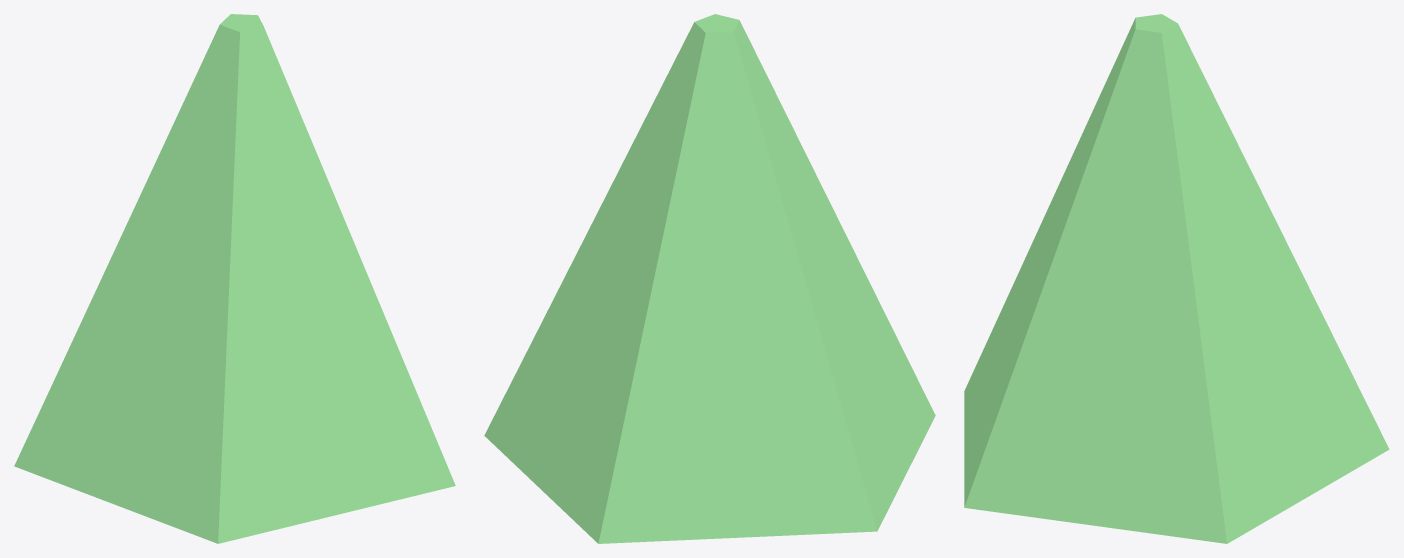
The model's file is model_GrassTest.glb.
3 views of the same model, side by side, from view 1: azimuth 30°, elevation 25°; view 2: azimuth 150°, elevation 25°; view 3: azimuth 270°, elevation 25° (orthographic). The views are drawn at different scales.
Parts seen in each view (by area): view 1: GrassTest; view 2: GrassTest; view 3: GrassTest.
Boxes of the visible parts, bbox=[...] form: GrassTest: bbox=[14, 14, 455, 543]; GrassTest: bbox=[484, 14, 935, 543]; GrassTest: bbox=[964, 14, 1389, 543].
Size of the model in its own units: 0.9511 by 1 by 0.9045.
